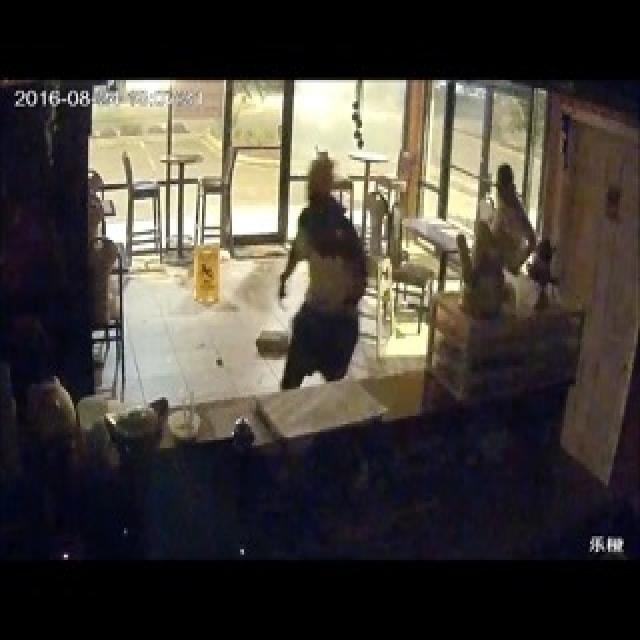thief: (268, 148, 386, 328)
